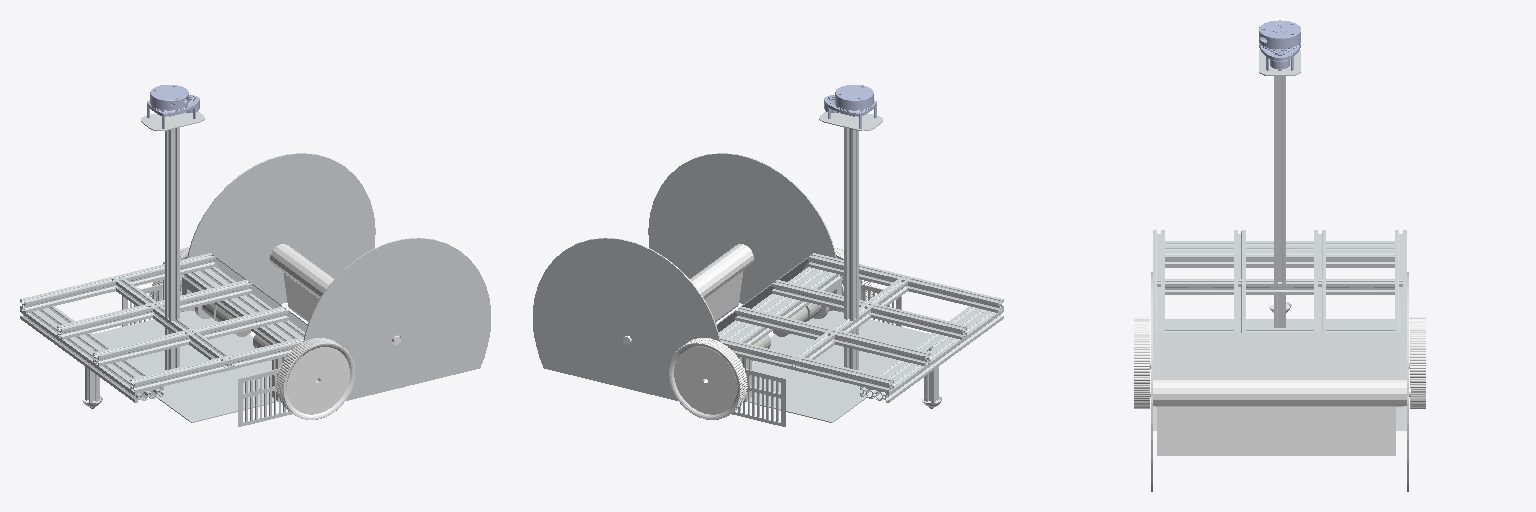
The robot description file, URDF, robot "artpark":
<?xml version="1.0" ?>
<!-- =================================================================================== -->
<!-- |    This document was autogenerated by xacro from artpark.urdf.xacro             | -->
<!-- |    EDITING THIS FILE BY HAND IS NOT RECOMMENDED                                 | -->
<!-- =================================================================================== -->
<robot name="artpark">
  <!-- T265 Fisheye:

  gazebo_ros_camera supports only plumb_bob
  D: [-0.007419134024530649, 0.041209351271390915, -0.03811917081475258, 0.006366158835589886, 0.0]

  <distortionK1>-0.007419134024530649</distortionK1>
  <distortionK2>0.041209351271390915</distortionK2>
  <distortionK3>-0.03811917081475258</distortionK3>
  <distortionT1>0.006366158835589886</distortionT1>
  <distortionT2>0.0</distortionT2>

       [fx'  0  cx' Tx]
   P = [ 0  fy' cy' Ty]
       [ 0   0   1   0]

   P : [ 285.5480041503906, 0.0, 416.00531005859375, 0.0,
         0.0, 285.3793029785156, 403.38909912109375, 0.0,
         0.0, 0.0, 1.0, 0.0 ]

  <CxPrime>416.00531005859375</CxPrime>

       [fx  0 cx]
   K = [ 0 fy cy]
       [ 0  0  1]

   K : [ 285.5480041503906, 0.0, 416.00531005859375,
         0.0, 285.3793029785156, 403.38909912109375,
         0.0, 0.0, 1.0]

  <Cx>16.00531005859375</Cx>
  <Cy>403.38909912109375</Cy>

  -->
  <!-- INTEL REALSENSE T265 -->
  <!-- INTEL REALSENSE D435 -->
  <!-- INTEL REALSENSE R200 -->
  <link name="base_link">
    <visual>
      <origin rpy="0 0 0" xyz="0 0 0"/>
    </visual>
    <collision>
      <origin rpy="0 0 0" xyz="0 0 0"/>
      <geometry>
        <mesh filename="package://artpark/meshes/base_link.STL"/>
      </geometry>
    </collision>
  </link>
  <link name="chassis">
    <inertial>
      <origin rpy="0 0 0" xyz="0.0115454940351985 -3.15080247147437E-05 0.0744738556693311"/>
      <mass value="3.65496122891897"/>
      <inertia ixx="0.0939027722318147" ixy="8.67034465286481E-06" ixz="0.00825983798375924" iyy="0.0906641678816529" iyz="-3.42305751043282E-06" izz="0.133976532477053"/>
    </inertial>
    <visual>
      <origin rpy="0 0 0" xyz="0 0 0"/>
      <geometry>
        <mesh filename="package://artpark/meshes/chassis.STL"/>
      </geometry>
      <material name="">
        <color rgba="0.898039215686275 0.917647058823529 0.929411764705882 1"/>
      </material>
    </visual>
    <collision>
      <origin rpy="0 0 0" xyz="0 0 0"/>
      <geometry>
        <mesh filename="package://artpark/meshes/chassis.STL"/>
      </geometry>
    </collision>
  </link>
  <joint name="base" type="fixed">
    <origin rpy="0 0 0" xyz="0 0 0"/>
    <parent link="base_link"/>
    <child link="chassis"/>
    <axis xyz="0 0 0"/>
  </joint>
  <link name="side_plate1">
    <inertial>
      <origin rpy="0 0 0" xyz="-5.55111512312578E-17 0.0015 -2.77555756156289E-17"/>
      <mass value="0.891200986442893"/>
      <inertia ixx="0.0055991878087458" ixy="-7.04449901036779E-18" ixz="-0.00115377544948716" iyy="0.0187870985074128" iyz="-3.41715046677134E-17" izz="0.0131892475001466"/>
    </inertial>
    <visual>
      <origin rpy="0 0 0" xyz="0 0 0"/>
      <geometry>
        <mesh filename="package://artpark/meshes/side_plate1.STL"/>
      </geometry>
      <material name="">
        <color rgba="0.898039215686275 0.917647058823529 0.929411764705882 1"/>
      </material>
    </visual>
    <collision>
      <origin rpy="0 0 0" xyz="0 0 0"/>
      <geometry>
        <mesh filename="package://artpark/meshes/side_plate1.STL"/>
      </geometry>
    </collision>
  </link>
  <joint name="sp1" type="fixed">
    <origin rpy="0 0 0" xyz="0.29082 -0.213 0.09851"/>
    <parent link="base_link"/>
    <child link="side_plate1"/>
    <axis xyz="0 0 0"/>
  </joint>
  <link name="picker">
    <inertial>
      <origin rpy="0 0 0" xyz="0.00452253303120231 -0.00300695664251519 -0.0314825869268321"/>
      <mass value="1.30544325391666"/>
      <inertia ixx="0.0199932893133936" ixy="1.53560121461935E-05" ixz="0.000231234517093043" iyy="0.00184846628879658" iyz="-0.00010678694913416" izz="0.0184313245740529"/>
    </inertial>
    <visual>
      <origin rpy="0 0 0" xyz="0 0 0"/>
      <geometry>
        <mesh filename="package://artpark/meshes/picker.STL"/>
      </geometry>
      <material name="">
        <color rgba="1 1 1 1"/>
      </material>
    </visual>
    <collision>
      <origin rpy="0 0 0" xyz="0 0 0"/>
      <geometry>
        <mesh filename="package://artpark/meshes/picker.STL"/>
      </geometry>
    </collision>
  </link>
  <joint name="pic" type="continuous">
    <origin rpy="0 0 0" xyz="0.016013 0.21352 -0.027525"/>
    <parent link="side_plate1"/>
    <child link="picker"/>
    <axis xyz="0 1 0"/>
    <transmission name="pic_trans">
      <type>transmission_interface/SimpleTransmission</type>
      <joint name="pic">
        <hardwareInterface>hardware_interface/EffortJointInterface</hardwareInterface>
      </joint>
      <actuator name="pic_motor"/>
      <mechanicalReduction>50</mechanicalReduction>
    </transmission>
  </joint>
  <link name="side_plate2">
    <inertial>
      <origin rpy="0 0 0" xyz="0 -0.00150000000000006 0"/>
      <mass value="0.891200986442893"/>
      <inertia ixx="0.0055991878087458" ixy="-7.04797316894053E-18" ixz="-0.00115377544948716" iyy="0.0187870985074128" iyz="-3.41772949320013E-17" izz="0.0131892475001466"/>
    </inertial>
    <visual>
      <origin rpy="0 0 0" xyz="0 0 0"/>
      <geometry>
        <mesh filename="package://artpark/meshes/side_plate2.STL"/>
      </geometry>
      <material name="">
        <color rgba="0.898039215686275 0.917647058823529 0.929411764705882 1"/>
      </material>
    </visual>
    <collision>
      <origin rpy="0 0 0" xyz="0 0 0"/>
      <geometry>
        <mesh filename="package://artpark/meshes/side_plate2.STL"/>
      </geometry>
    </collision>
  </link>
  <joint name="sp2" type="fixed">
    <origin rpy="0 0 0" xyz="0.29082 0.213 0.09851"/>
    <parent link="base_link"/>
    <child link="side_plate2"/>
    <axis xyz="0 0 0"/>
  </joint>
  <link name="motor1">
    <inertial>
      <origin rpy="0 0 0" xyz="-5.55111512312578E-16 0.080765217008469 -4.71844785465692E-16"/>
      <mass value="1.14513610116382"/>
      <inertia ixx="0.00162507606888743" ixy="9.5001150524092E-18" ixz="6.40137134624859E-21" iyy="0.000258120014856387" iyz="8.39647502242144E-18" izz="0.00162507606888743"/>
    </inertial>
    <visual>
      <origin rpy="0 0 0" xyz="0 0 0"/>
      <geometry>
        <mesh filename="package://artpark/meshes/motor1.STL"/>
      </geometry>
      <material name="">
        <color rgba="0.831372549019608 0.83921568627451 0.831372549019608 1"/>
      </material>
    </visual>
    <collision>
      <origin rpy="0 0 0" xyz="0 0 0"/>
      <geometry>
        <mesh filename="package://artpark/meshes/motor1.STL"/>
      </geometry>
    </collision>
  </link>
  <joint name="m1" type="fixed">
    <origin rpy="0 0 0" xyz="0.12771 -0.176 0.038"/>
    <parent link="base_link"/>
    <child link="motor1"/>
    <axis xyz="0 0 0"/>
  </joint>
  <link name="wheel1">
    <inertial>
      <origin rpy="0 0 0" xyz="7.21644966006352E-16 0.00985771445175607 1.80411241501588E-16"/>
      <mass value="0.349432628407881"/>
      <inertia ixx="0.000526136247776357" ixy="-4.12571912424266E-18" ixz="3.79678739425313E-17" iyy="0.00101551394512694" iyz="-3.1676126616374E-18" izz="0.000526136247776314"/>
    </inertial>
    <visual>
      <origin rpy="0 0 0" xyz="0 0 0"/>
      <geometry>
        <mesh filename="package://artpark/meshes/wheel1.STL"/>
      </geometry>
      <material name="">
        <color rgba="1 1 1 1"/>
      </material>
    </visual>
    <collision>
      <origin rpy="0 0 0" xyz="0 0 0"/>
      <geometry>
        <mesh filename="package://artpark/meshes/wheel1.STL"/>
      </geometry>
    </collision>
  </link>
  <joint name="w1" type="continuous">
    <origin rpy="0 0 0" xyz="0 -0.061701 0"/>
    <parent link="motor1"/>
    <child link="wheel1"/>
    <axis xyz="0 1 0"/>
    <transmission name="w1_trans">
      <type>transmission_interface/SimpleTransmission</type>
      <joint name="w1">
        <hardwareInterface>hardware_interface/EffortJointInterface</hardwareInterface>
      </joint>
      <actuator name="w1_motor"/>
    </transmission>
  </joint>
  <link name="motor2">
    <inertial>
      <origin rpy="0 0 0" xyz="-5.55111512312578E-17 -0.0807652170084691 4.85722573273506E-16"/>
      <mass value="1.14513610116382"/>
      <inertia ixx="0.00162507606888743" ixy="-1.00101410880249E-20" ixz="-7.5078941239734E-21" iyy="0.000258120014856386" iyz="8.14969822443002E-18" izz="0.00162507606888743"/>
    </inertial>
    <visual>
      <origin rpy="0 0 0" xyz="0 0 0"/>
      <geometry>
        <mesh filename="package://artpark/meshes/motor2.STL"/>
      </geometry>
      <material name="">
        <color rgba="0.831372549019608 0.83921568627451 0.831372549019608 1"/>
      </material>
    </visual>
    <collision>
      <origin rpy="0 0 0" xyz="0 0 0"/>
      <geometry>
        <mesh filename="package://artpark/meshes/motor2.STL"/>
      </geometry>
    </collision>
  </link>
  <joint name="m2" type="fixed">
    <origin rpy="0 0 0" xyz="0.12771 0.176 0.038"/>
    <parent link="base_link"/>
    <child link="motor2"/>
    <axis xyz="0 0 0"/>
  </joint>
  <link name="wheel2">
    <inertial>
      <origin rpy="0 0 0" xyz="-8.32667268468867E-16 -0.00985771445175598 1.38777878078145E-17"/>
      <mass value="0.349432628407874"/>
      <inertia ixx="0.000526136247776362" ixy="-7.98207927791519E-19" ixz="-2.25842144795148E-17" iyy="0.00101551394512691" iyz="-2.91448262559538E-18" izz="0.000526136247776281"/>
    </inertial>
    <visual>
      <origin rpy="0 0 0" xyz="0 0 0"/>
      <geometry>
        <mesh filename="package://artpark/meshes/wheel2.STL"/>
      </geometry>
      <material name="">
        <color rgba="1 1 1 1"/>
      </material>
    </visual>
    <collision>
      <origin rpy="0 0 0" xyz="0 0 0"/>
      <geometry>
        <mesh filename="package://artpark/meshes/wheel2.STL"/>
      </geometry>
    </collision>
  </link>
  <joint name="w2" type="continuous">
    <origin rpy="0 0 0" xyz="0 0.061701 0"/>
    <parent link="motor2"/>
    <child link="wheel2"/>
    <axis xyz="0 1 0"/>
    <transmission name="w2_trans">
      <type>transmission_interface/SimpleTransmission</type>
      <joint name="w2">
        <hardwareInterface>hardware_interface/EffortJointInterface</hardwareInterface>
      </joint>
      <actuator name="w2_motor"/>
    </transmission>
  </joint>
  <link name="rplidar">
    <inertial>
      <origin rpy="0 0 0" xyz="-0.00283140368793464 0.000495101457548164 0.00443830911249521"/>
      <mass value="0.142993661893579"/>
      <inertia ixx="4.62765933116063E-05" ixy="-8.53487841648092E-07" ixz="3.62171002036755E-06" iyy="7.34741694839761E-05" iyz="-2.04305204081226E-07" izz="0.000107959645241711"/>
    </inertial>
    <visual>
      <origin rpy="0 0 0" xyz="0 0 0"/>
      <geometry>
        <mesh filename="package://artpark/meshes/rplidar.STL"/>
      </geometry>
      <material name="">
        <color rgba="0.792156862745098 0.819607843137255 0.933333333333333 1"/>
      </material>
    </visual>
    <collision>
      <origin rpy="0 0 0" xyz="0 0 0"/>
      <geometry>
        <mesh filename="package://artpark/meshes/rplidar.STL"/>
      </geometry>
    </collision>
  </link>
  <!-- camera body, with origin at bottom screw mount -->
  <joint name="d435_joint" type="fixed">
    <origin rpy="0 0 0" xyz="0.04 0.0 -0.08"/>
    <parent link="rplidar"/>
    <child link="d435_bottom_screw_frame"/>
  </joint>
  <link name="d435_bottom_screw_frame"/>
  <joint name="d435_link_joint" type="fixed">
    <origin rpy="0 0 0" xyz="0 0.0175 0.0125"/>
    <parent link="d435_bottom_screw_frame"/>
    <child link="d435_link"/>
  </joint>
  <link name="d435_link">
    <visual>
      <origin rpy="1.5707963267948966 0 1.5707963267948966" xyz="0.0149 -0.0175 0"/>
      <geometry>
        <mesh filename="package://realsense_ros_gazebo/meshes/realsense_d435.stl"/>
      </geometry>
    </visual>
    <collision>
      <origin rpy="0 0 0" xyz="0 -0.0175 0"/>
      <geometry>
        <box size="0.02505 0.09 0.025"/>
      </geometry>
    </collision>
    <inertial>
      <mass value="0.564"/>
      <origin rpy="0 0 0" xyz="0 -0.0175 0"/>
      <inertia ixx="0.000410075" ixy="0" ixz="0" iyy="5.8867617499999996e-05" iyz="0" izz="5.8867617499999996e-05"/>
    </inertial>
  </link>
  <!-- camera depth joints and links -->
  <joint name="d435_depth_joint" type="fixed">
    <origin rpy="0 0 0" xyz="0 0 0"/>
    <parent link="d435_link"/>
    <child link="d435_depth_frame"/>
  </joint>
  <link name="d435_depth_frame"/>
  <joint name="d435_depth_optical_joint" type="fixed">
    <origin rpy="-1.5707963267948966 0 -1.5707963267948966" xyz="0 0 0"/>
    <parent link="d435_depth_frame"/>
    <child link="d435_depth_optical_frame"/>
  </joint>
  <link name="d435_depth_optical_frame"/>
  <!-- camera left IR joints and links -->
  <joint name="d435_left_ir_joint" type="fixed">
    <origin rpy="0 0 0" xyz="0 0.0 0"/>
    <parent link="d435_depth_frame"/>
    <child link="d435_left_ir_frame"/>
  </joint>
  <link name="d435_left_ir_frame"/>
  <joint name="d435_left_ir_optical_joint" type="fixed">
    <origin rpy="-1.5707963267948966 0 -1.5707963267948966" xyz="0 0 0"/>
    <parent link="d435_left_ir_frame"/>
    <child link="d435_left_ir_optical_frame"/>
  </joint>
  <link name="d435_left_ir_optical_frame"/>
  <!-- camera right IR joints and links -->
  <joint name="d435_right_ir_joint" type="fixed">
    <origin rpy="0 0 0" xyz="0 -0.05 0"/>
    <parent link="d435_depth_frame"/>
    <child link="d435_right_ir_frame"/>
  </joint>
  <link name="d435_right_ir_frame"/>
  <joint name="d435_right_ir_optical_joint" type="fixed">
    <origin rpy="-1.5707963267948966 0 -1.5707963267948966" xyz="0 0 0"/>
    <parent link="d435_right_ir_frame"/>
    <child link="d435_right_ir_optical_frame"/>
  </joint>
  <link name="d435_right_ir_optical_frame"/>
  <!-- camera color joints and links -->
  <joint name="d435_color_joint" type="fixed">
    <origin rpy="0 0 0" xyz="0 0.015 0"/>
    <parent link="d435_depth_frame"/>
    <child link="d435_color_frame"/>
  </joint>
  <link name="d435_color_frame"/>
  <joint name="d435_color_optical_joint" type="fixed">
    <origin rpy="-1.5707963267948966 0 -1.5707963267948966" xyz="0 0 0"/>
    <parent link="d435_color_frame"/>
    <child link="d435_color_optical_frame"/>
  </joint>
  <link name="d435_color_optical_frame"/>
  <!-- gazebo plugin -->
  <gazebo reference="d435_link">
    <self_collide>0</self_collide>
    <enable_wind>0</enable_wind>
    <kinematic>0</kinematic>
    <gravity>1</gravity>
    <mu2>1</mu2>
    <fdir1>0 0 0</fdir1>
    <kp>1e+13</kp>
    <kd>1</kd>
    <sensor name="d435_color" type="camera">
      <camera name="d435">
        <horizontal_fov>1.2112585008840648</horizontal_fov>
        <image>
          <width>640</width>
          <height>480</height>
          <format>RGB_INT8</format>
        </image>
        <clip>
          <near>0.1</near>
          <far>100</far>
        </clip>
        <noise>
          <type>gaussian</type>
          <mean>0.0</mean>
          <stddev>0.007</stddev>
        </noise>
      </camera>
      <always_on>1</always_on>
      <update_rate>30</update_rate>
      <visualize>1</visualize>
    </sensor>
    <sensor name="d435_ired1" type="camera">
      <camera name="d435">
        <horizontal_fov>1.4870205226991688</horizontal_fov>
        <image>
          <width>640</width>
          <height>480</height>
          <format>L_INT8</format>
        </image>
        <clip>
          <near>0.1</near>
          <far>100</far>
        </clip>
        <noise>
          <type>gaussian</type>
          <mean>0.0</mean>
          <stddev>0.05</stddev>
        </noise>
      </camera>
      <always_on>1</always_on>
      <update_rate>90</update_rate>
      <visualize>0</visualize>
    </sensor>
    <sensor name="d435_ired2" type="camera">
      <camera name="d435">
        <horizontal_fov>1.4870205226991688</horizontal_fov>
        <image>
          <width>640</width>
          <height>480</height>
          <format>L_INT8</format>
        </image>
        <clip>
          <near>0.1</near>
          <far>100</far>
        </clip>
        <noise>
          <type>gaussian</type>
          <mean>0.0</mean>
          <stddev>0.05</stddev>
        </noise>
      </camera>
      <always_on>1</always_on>
      <update_rate>90</update_rate>
      <visualize>0</visualize>
    </sensor>
    <sensor name="d435_depth" type="depth">
      <camera name="d435">
        <horizontal_fov>1.4870205226991688</horizontal_fov>
        <image>
          <width>640</width>
          <height>480</height>
        </image>
        <clip>
          <near>0.1</near>
          <far>100</far>
        </clip>
        <noise>
          <type>gaussian</type>
          <mean>0.0</mean>
          <stddev>0.100</stddev>
        </noise>
      </camera>
      <always_on>1</always_on>
      <update_rate>90</update_rate>
      <visualize>0</visualize>
    </sensor>
  </gazebo>
  <gazebo>
    <plugin filename="librealsense_gazebo_plugin.so" name="d435">
      <prefix>d435_</prefix>
      <depthUpdateRate>10</depthUpdateRate>
      <colorUpdateRate>10</colorUpdateRate>
      <infraredUpdateRate>10</infraredUpdateRate>
      <depthTopicName>depth/image_raw</depthTopicName>
      <depthCameraInfoTopicName>depth/camera_info</depthCameraInfoTopicName>
      <colorTopicName>color/image_raw</colorTopicName>
      <colorCameraInfoTopicName>color/camera_info</colorCameraInfoTopicName>
      <infrared1TopicName>infra1/image_raw</infrared1TopicName>
      <infrared1CameraInfoTopicName>infra1/camera_info</infrared1CameraInfoTopicName>
      <infrared2TopicName>infra2/image_raw</infrared2TopicName>
      <infrared2CameraInfoTopicName>infra2/camera_info</infrared2CameraInfoTopicName>
      <colorOpticalframeName>d435_color_optical_frame</colorOpticalframeName>
      <depthOpticalframeName>d435_depth_optical_frame</depthOpticalframeName>
      <infrared1OpticalframeName>d435_infrared1_optical_frame</infrared1OpticalframeName>
      <infrared2OpticalframeName>d435_infrared2_optical_frame</infrared2OpticalframeName>
      <rangeMinDepth>0.2</rangeMinDepth>
      <rangeMaxDepth>10.0</rangeMaxDepth>
      <pointCloud>false</pointCloud>
      <pointCloudTopicName>depth/color/points</pointCloudTopicName>
      <pointCloudCutoff>0.25</pointCloudCutoff>
      <pointCloudCutoffMax>9.0</pointCloudCutoffMax>
    </plugin>
  </gazebo>
  <joint name="rpl1" type="fixed">
    <origin rpy="0 0 0" xyz="-0.040672 0 0.5406"/>
    <parent link="base_link"/>
    <child link="rplidar"/>
    <axis xyz="0 0 0"/>
  </joint>
  <link name="castor">
    <inertial>
      <origin rpy="0 0 0" xyz="0 0 0"/>
      <mass value="0.001"/>
      <inertia ixx="0" ixy="0" ixz="0" iyy="0" iyz="0" izz="0"/>
    </inertial>
    <visual>
      <origin rpy="0 0 0" xyz="0 0 0"/>
      <geometry>
        <mesh filename="package://artpark/meshes/castor.STL"/>
      </geometry>
      <material name="">
        <color rgba="5 1 1 1"/>
      </material>
    </visual>
    <collision>
      <origin rpy="0 0 0" xyz="0 0 0"/>
      <geometry>
        <mesh filename="package://artpark/meshes/castor.STL"/>
      </geometry>
    </collision>
  </link>
  <joint name="c1" type="fixed">
    <origin rpy="0 0 0" xyz="-0.21229 0 -0.018"/>
    <parent link="base_link"/>
    <child link="castor"/>
    <axis xyz="0 0 0"/>
  </joint>
  <link name="castor_ball">
    <inertial>
      <origin rpy="0 0 0" xyz="-1.3878E-17 0 0"/>
      <mass value="0.00065958"/>
      <inertia ixx="7.6934E-09" ixy="-1.5071E-25" ixz="6.9793E-26" iyy="7.6934E-09" iyz="-2.7917E-26" izz="7.6934E-09"/>
    </inertial>
    <visual>
      <origin rpy="0 0 0" xyz="0 0 0"/>
      <geometry>
        <mesh filename="package://artpark/meshes/castor_ball.STL"/>
      </geometry>
      <material name="">
        <color rgba="0.69804 0.69804 0.69804 1"/>
      </material>
    </visual>
    <collision>
      <origin rpy="0 0 0" xyz="0 0 0"/>
      <geometry>
        <mesh filename="package://artpark/meshes/castor_ball.STL"/>
      </geometry>
    </collision>
  </link>
  <joint name="b1" type="continuous">
    <origin rpy="0 0 0" xyz="0 0 -0.011429"/>
    <parent link="castor"/>
    <child link="castor_ball"/>
    <axis xyz="1 1 1"/>
  </joint>
</robot>

--- Render facts (derived) ---
Views: 3 orthographic renders of the robot side by side, from view 1: azimuth 30°, elevation 25°; view 2: azimuth 150°, elevation 25°; view 3: azimuth 270°, elevation 25°.
Model artpark with 22 links and 21 joints (4 continuous, 17 fixed), rooted at base_link, posed every joint at zero.
Visible links, largest first — view 1: chassis, side_plate1, side_plate2, wheel1, picker, rplidar; view 2: chassis, side_plate2, side_plate1, wheel2, picker, rplidar; view 3: chassis, picker, rplidar, wheel1, wheel2.
Boxes of the visible links, x1,y1,x2,y2 form: chassis: (20, 112, 307, 422); side_plate1: (238, 238, 490, 426); side_plate2: (122, 153, 375, 326); wheel1: (276, 338, 354, 419); picker: (270, 244, 403, 388); rplidar: (147, 85, 199, 128); chassis: (716, 112, 1003, 422); side_plate2: (533, 238, 785, 426); side_plate1: (648, 153, 901, 326); wheel2: (669, 338, 747, 419); picker: (623, 244, 753, 344); rplidar: (824, 85, 876, 128); chassis: (1153, 50, 1406, 430); picker: (1150, 379, 1410, 455); rplidar: (1259, 20, 1300, 70); wheel1: (1134, 317, 1150, 408); wheel2: (1409, 317, 1425, 408).
Size in the robot's own frame: 0.7495 by 0.484 by 0.6026 metres.
Meshes: 12 distinct files referenced, 11 mesh visuals loaded (11 binary STL); not drawn: 1 (reference not matched to a file when rendering).
